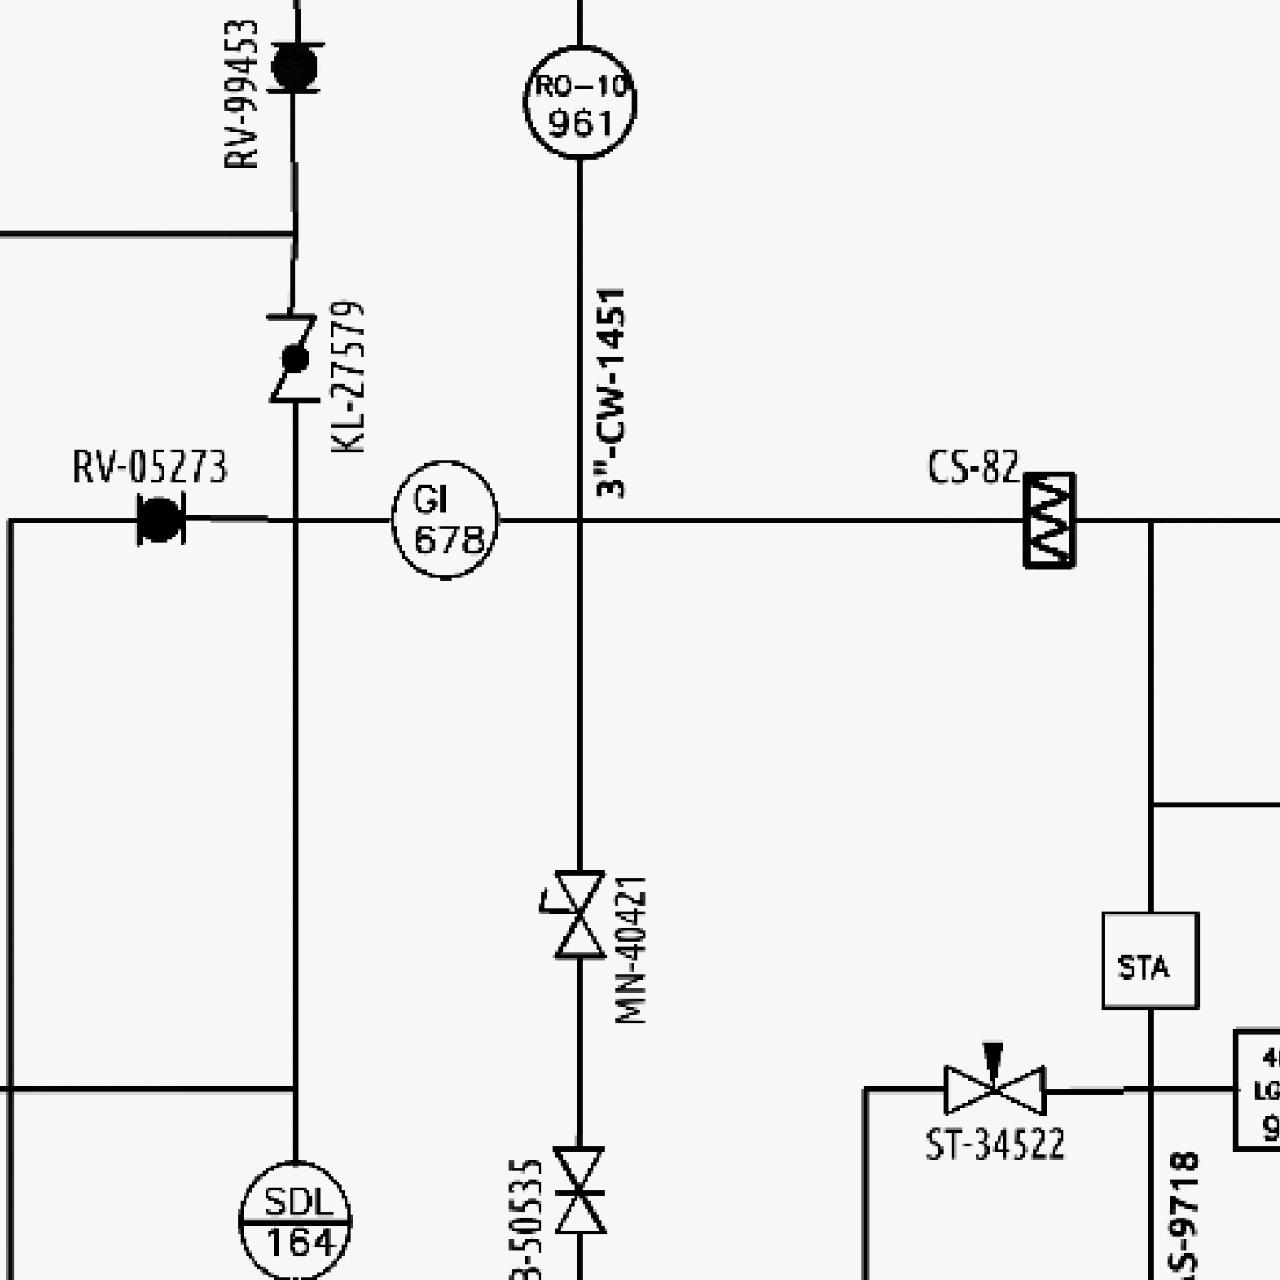Control-Panel: (517, 38, 641, 165)
